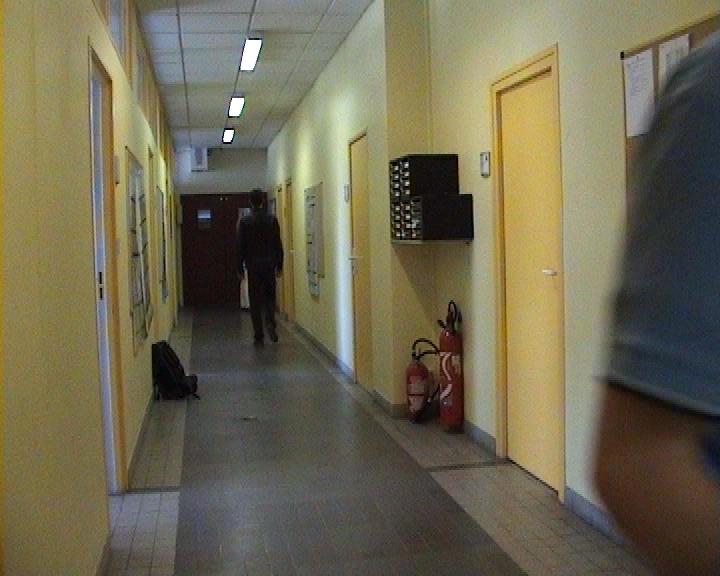leave bag unattended: (139, 328, 205, 434)
